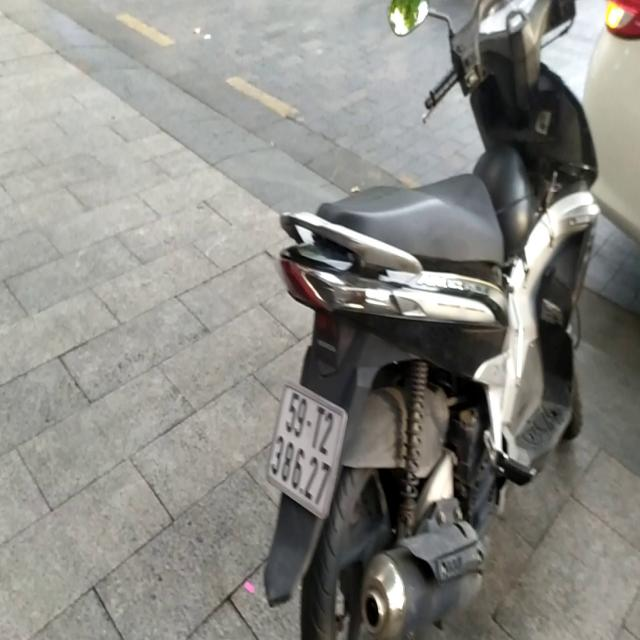bien_trang: (262, 376, 351, 514)
